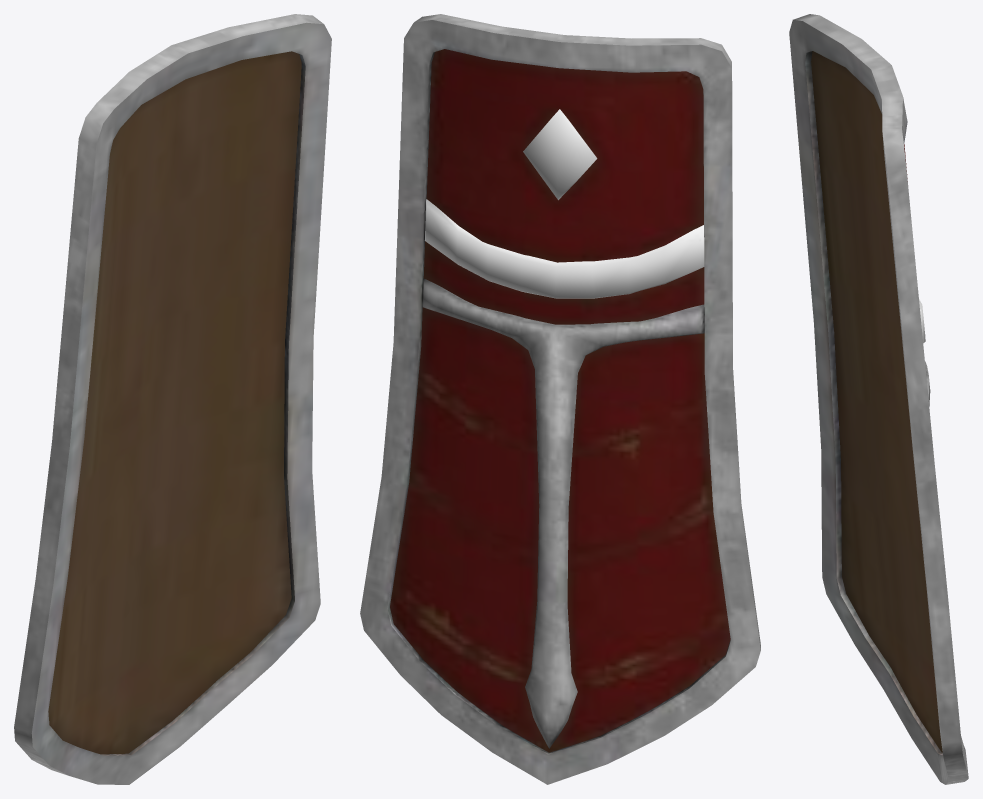
File: shield-coppershields.glb
The picture shows the model from 3 angles, left to right: view 1: azimuth 30°, elevation 25°; view 2: azimuth 150°, elevation 25°; view 3: azimuth 270°, elevation 25°; orthographic projection. The views are drawn at different scales.
Bounding box in the file's own units: 0.3487 × 0.6975 × 0.1567.
Materials: 1 (1 with a texture image).
